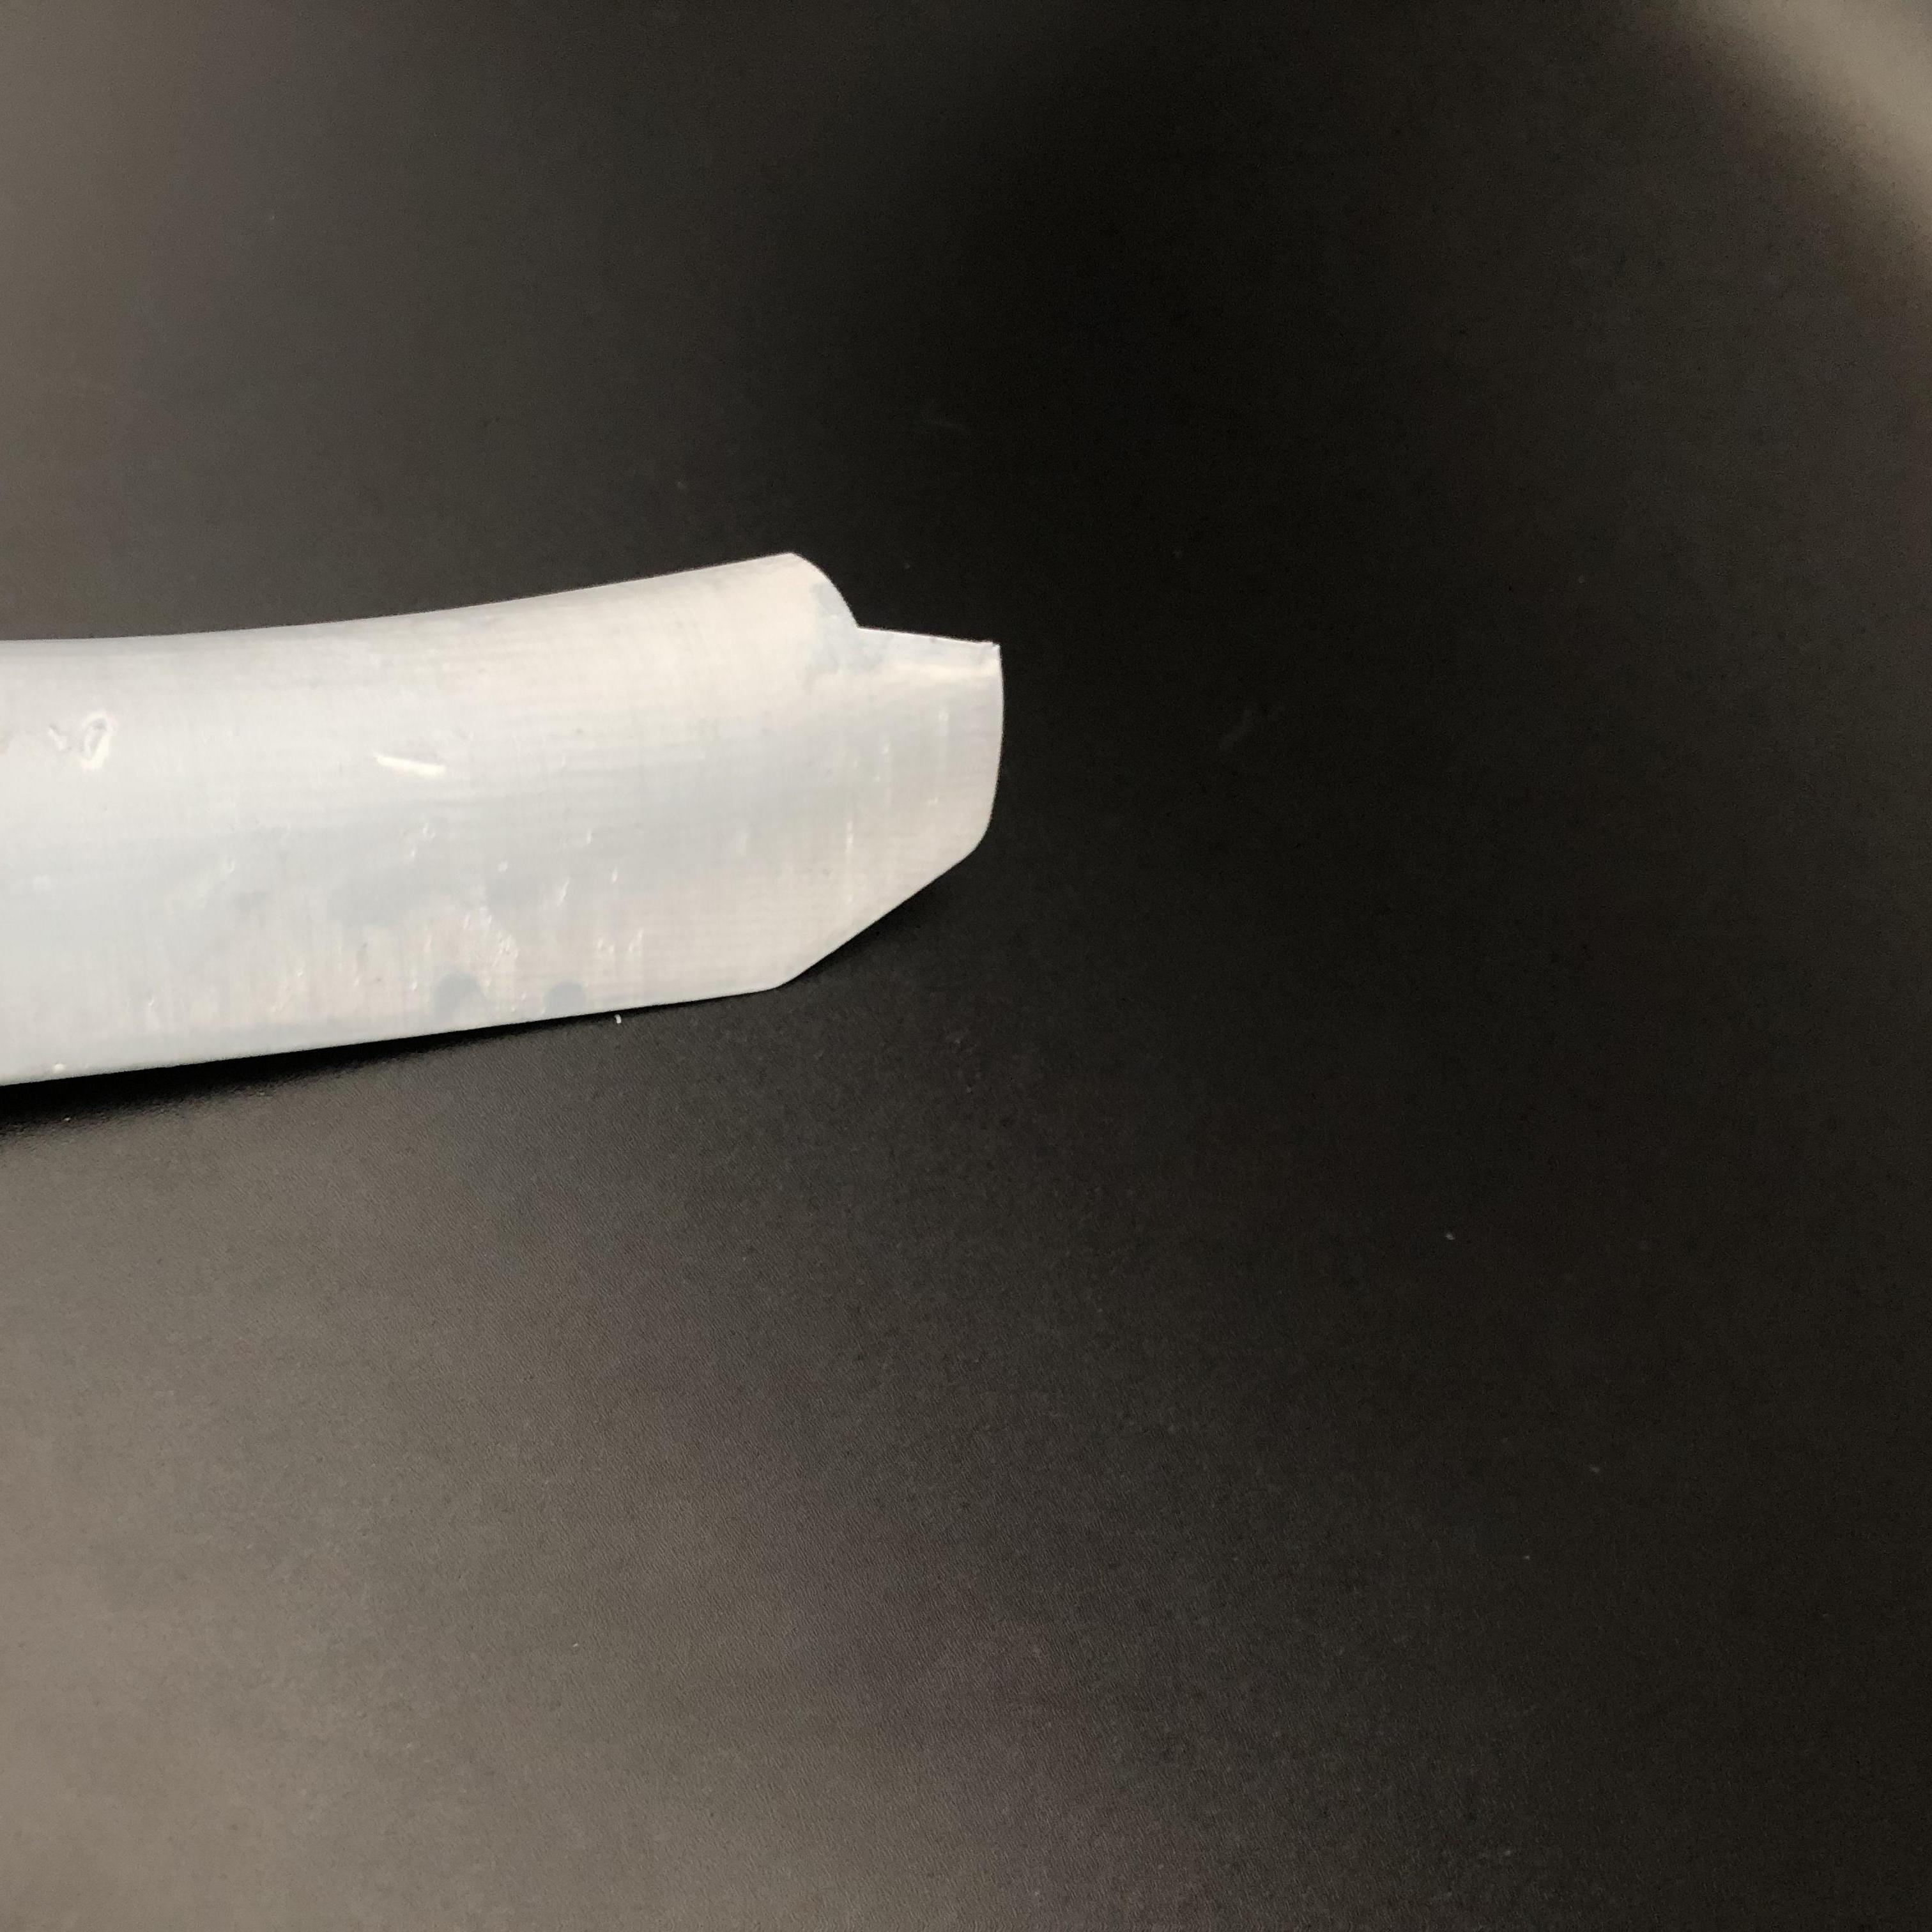fracture: (791, 541, 1008, 667)
